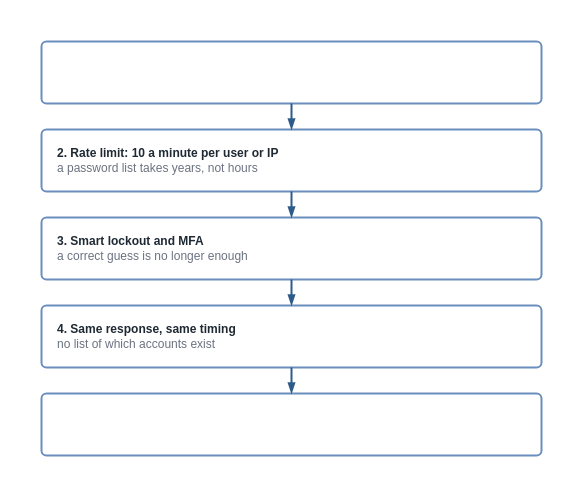
The diagram is 582 pixels wide and 496 high, and some of its shapes have lost their labels. Each missing label, with the centre of its shape:
1. A script, 8,000 attempts a minute calling your API directly, not your UI: the point at 291,72
5. Alert on the rate of 401s Defender for Cloud is awake at 3am: the point at 291,424
